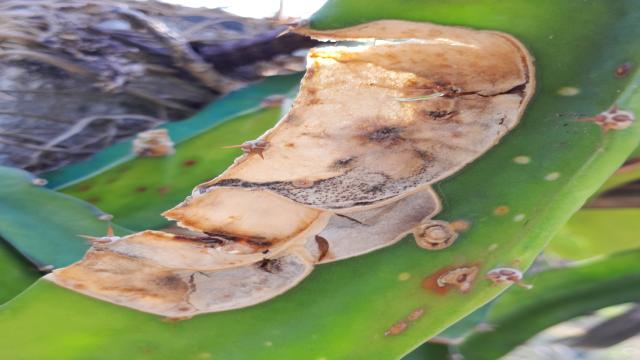stemcanker: (125, 169, 182, 202), (542, 67, 598, 99), (78, 179, 129, 213), (483, 192, 535, 224), (538, 159, 583, 191), (385, 258, 420, 296), (500, 151, 546, 172), (475, 235, 512, 258), (178, 147, 202, 180)
